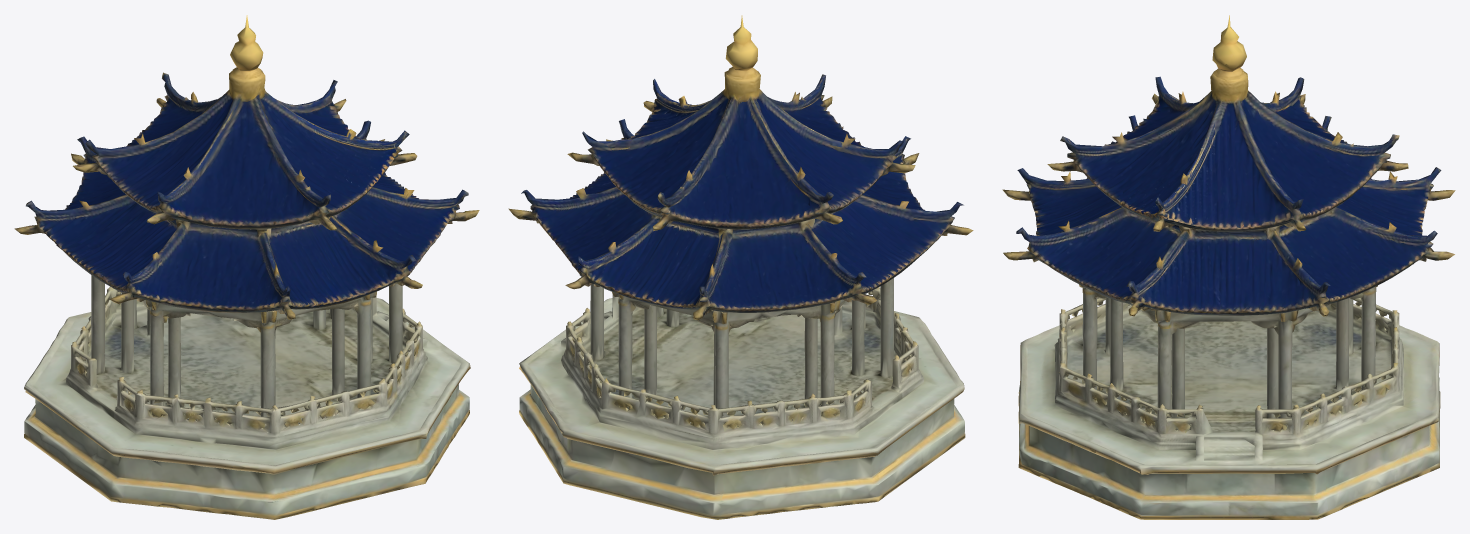
File: pavilion.glb
3 views of the same model, side by side, from view 1: azimuth 30°, elevation 25°; view 2: azimuth 150°, elevation 25°; view 3: azimuth 270°, elevation 25° (orthographic).
Parts seen in each view (by area): view 1: tripo_node_0d2f6c87-615e-40da-9e5f-ea30045bdf91; view 2: tripo_node_0d2f6c87-615e-40da-9e5f-ea30045bdf91; view 3: tripo_node_0d2f6c87-615e-40da-9e5f-ea30045bdf91.
Part boxes in pixels (x1,y1,x2,y2): tripo_node_0d2f6c87-615e-40da-9e5f-ea30045bdf91: [14, 15, 479, 519]; tripo_node_0d2f6c87-615e-40da-9e5f-ea30045bdf91: [508, 15, 973, 519]; tripo_node_0d2f6c87-615e-40da-9e5f-ea30045bdf91: [1002, 15, 1455, 519].
Bounding box in the file's own units: 0.9409 × 1 × 0.9842.
Materials: 1 (1 with a texture image).
